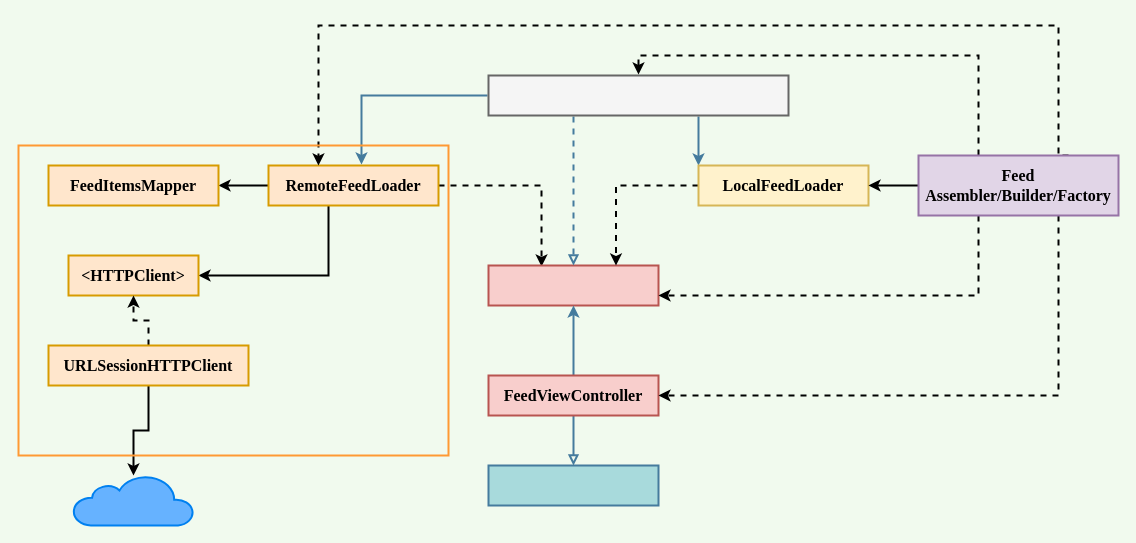
Some shapes in this 1136 by 543 pixel diagram are drawn without their labels. The shapes that lost their labels are listed below. From the top down, each one's centre as x and y in pixels, then its label:
At (638,95): "RemoteWithLocalFallbackFeedLoader".
At (573,285): "<Feed Feature>".
At (573,485): "UIViewController".
